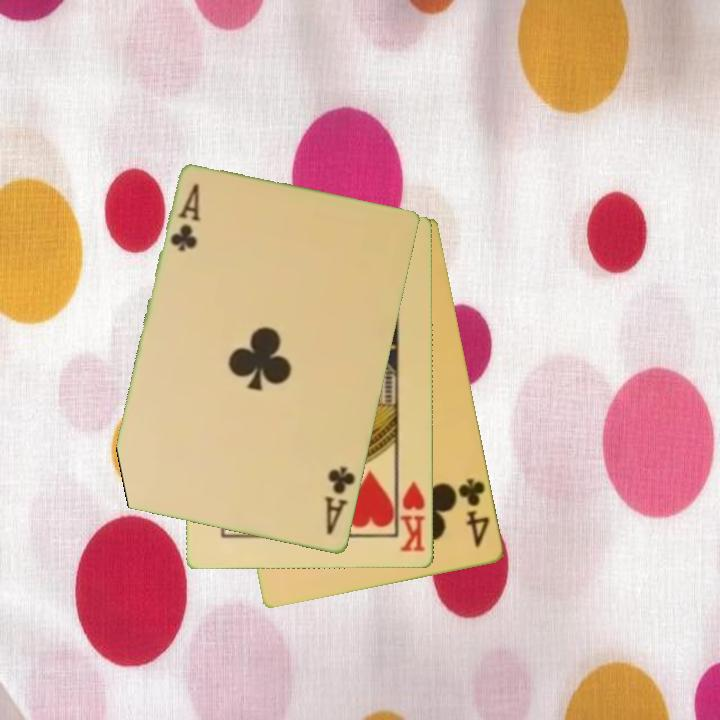4c: (455, 475, 493, 551)
Ac: (321, 463, 359, 538), (167, 180, 205, 255)
Kh: (395, 474, 428, 555)
